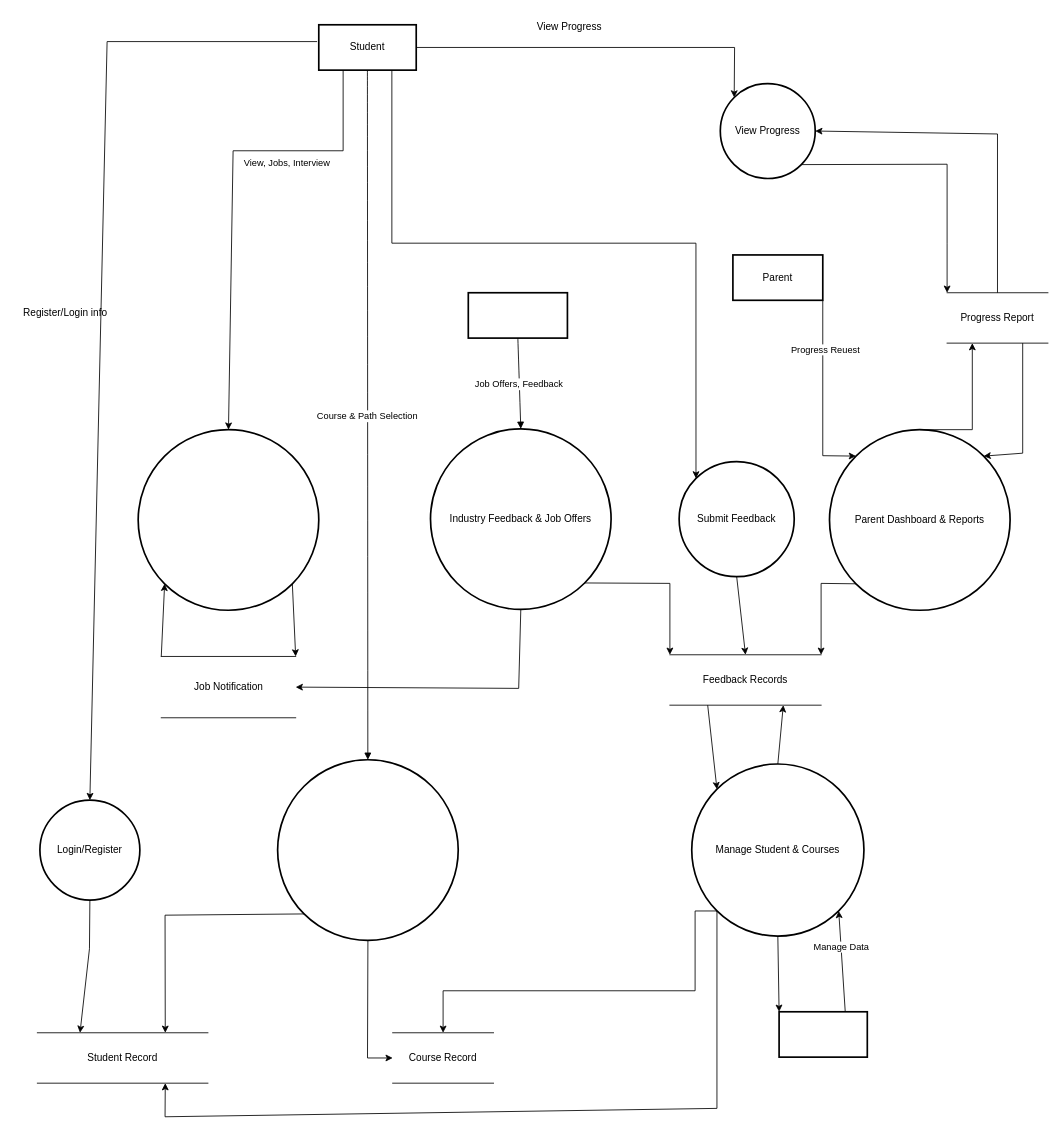
The diagram is 1063 pixels wide and 1138 high, and some of its shapes have lost their labels. Each missing label, with the centre of its shape:
Admin: the point at 823,1034
Industry: the point at 517,315
Select Course & Learning Path: the point at 367,850
Virtual Interview / Job Notifications: the point at 228,519
